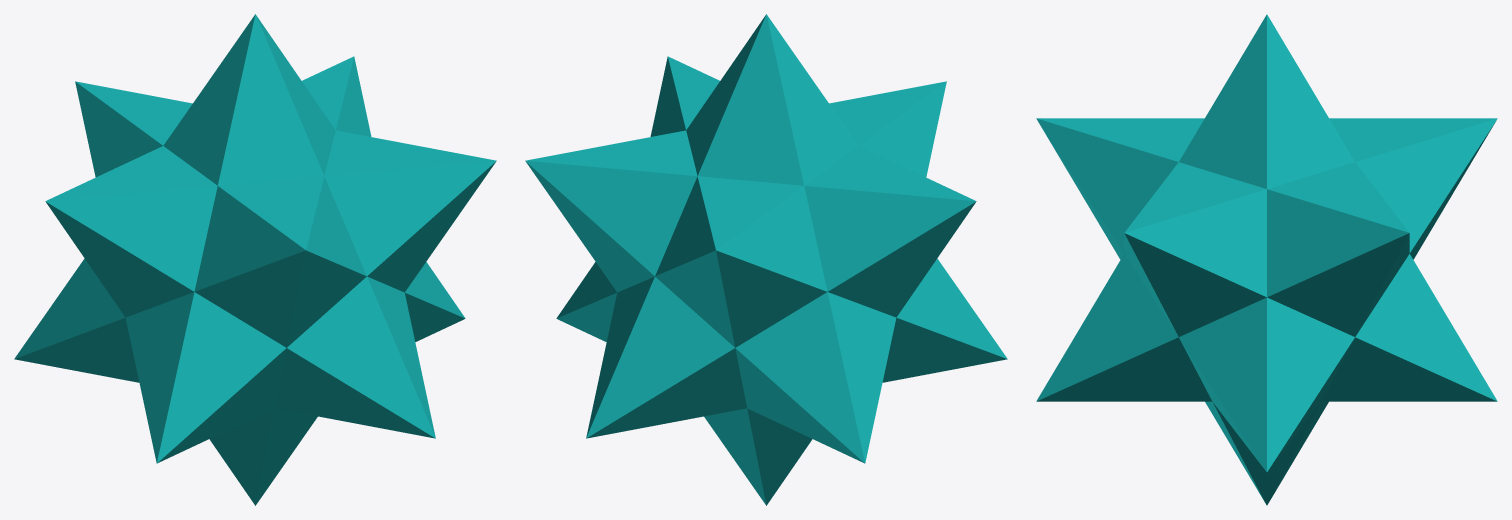
Rendered from star.glb.
3 renders of one model, left to right at view 1: azimuth 30°, elevation 25°; view 2: azimuth 150°, elevation 25°; view 3: azimuth 270°, elevation 25°, orthographic.
Size of the model in its own units: 0.0864 by 0.0966 by 0.0822.
